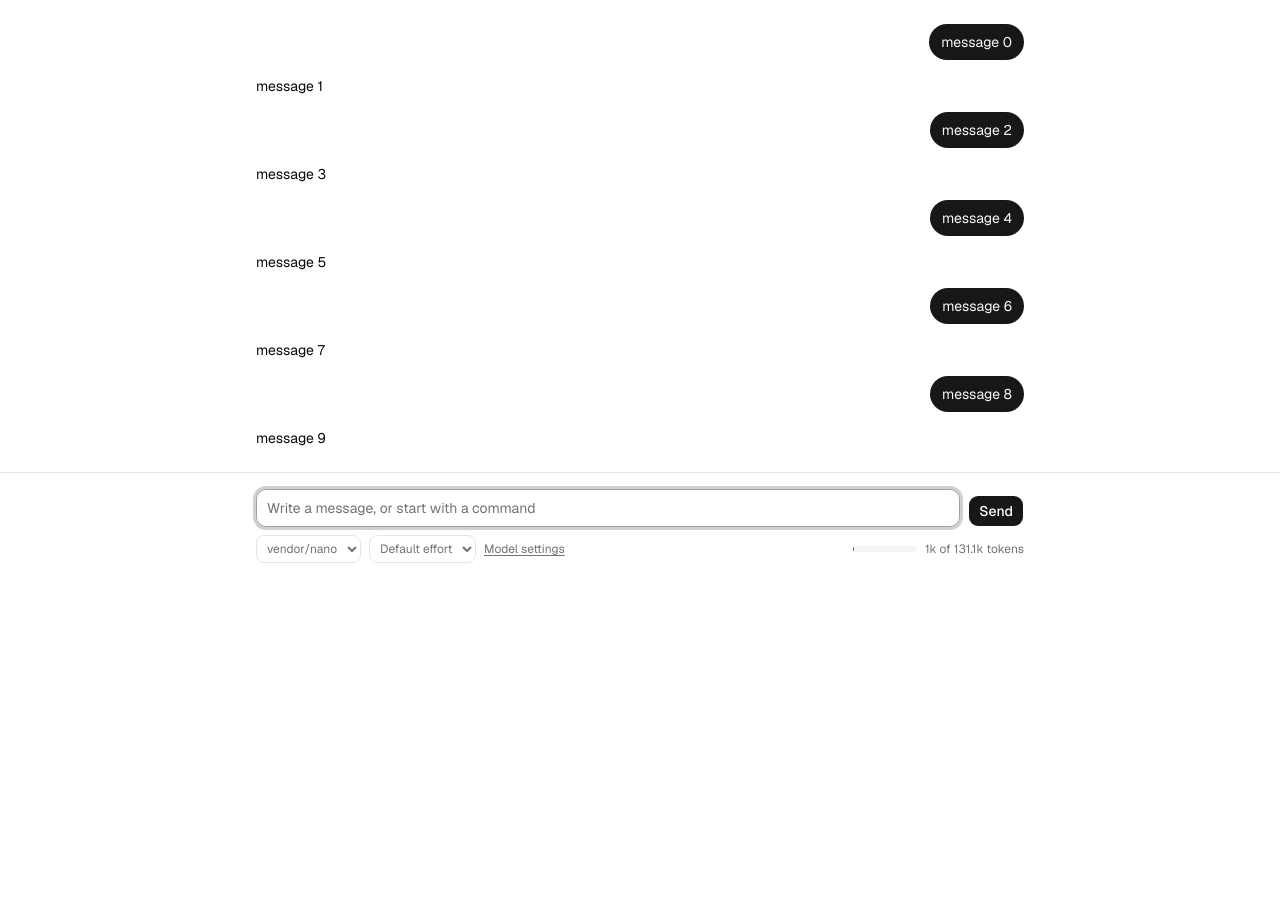
Scenario: the /compact dialog › accepts the edited draft through the compaction endpoint
expect the text "message 9" is shown: met, box [256,428,326,448]
In the text box labelled "message": (608, 508) [256,489,960,527], type "/compact"
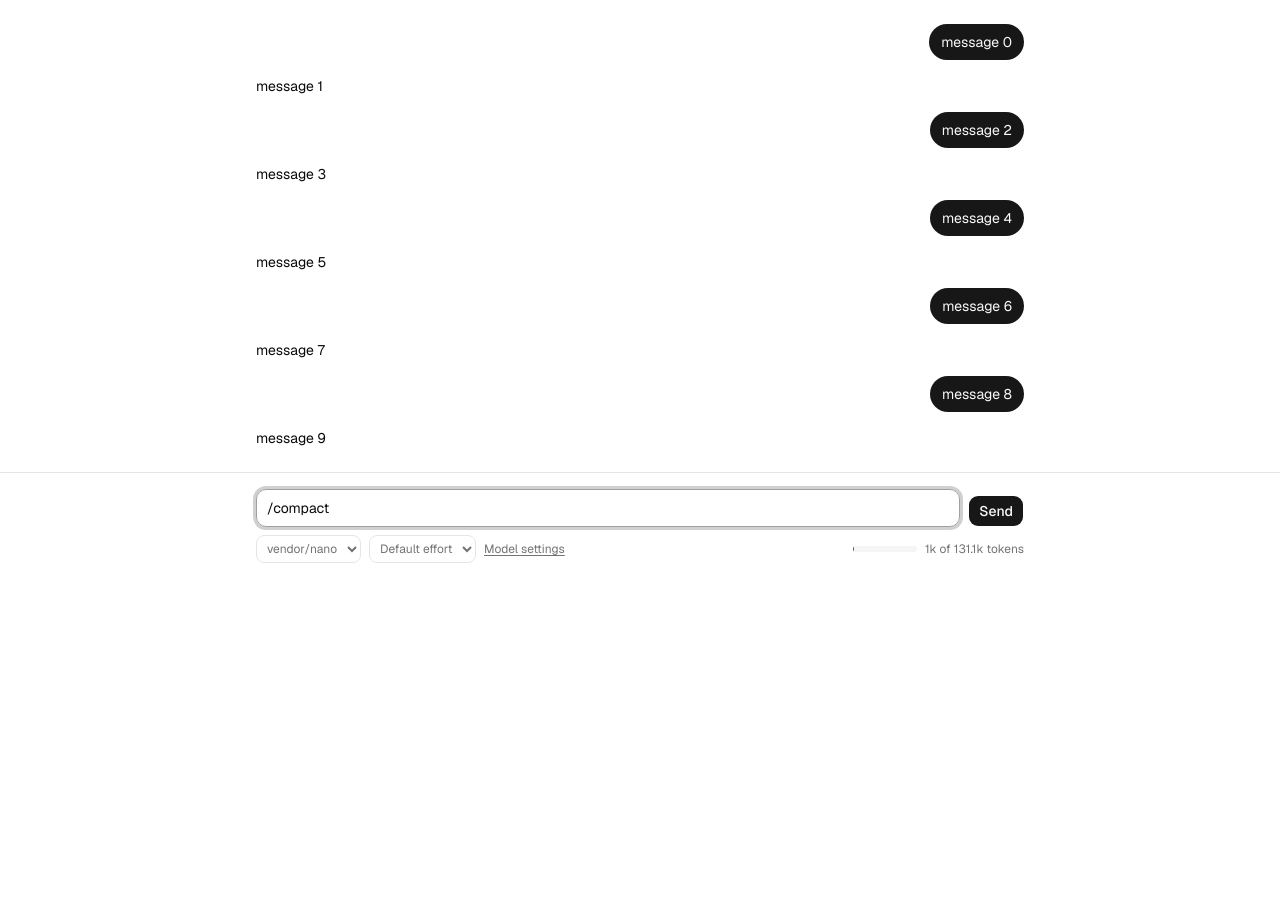
Click the button "Send": (996, 511) [968,495,1024,527]
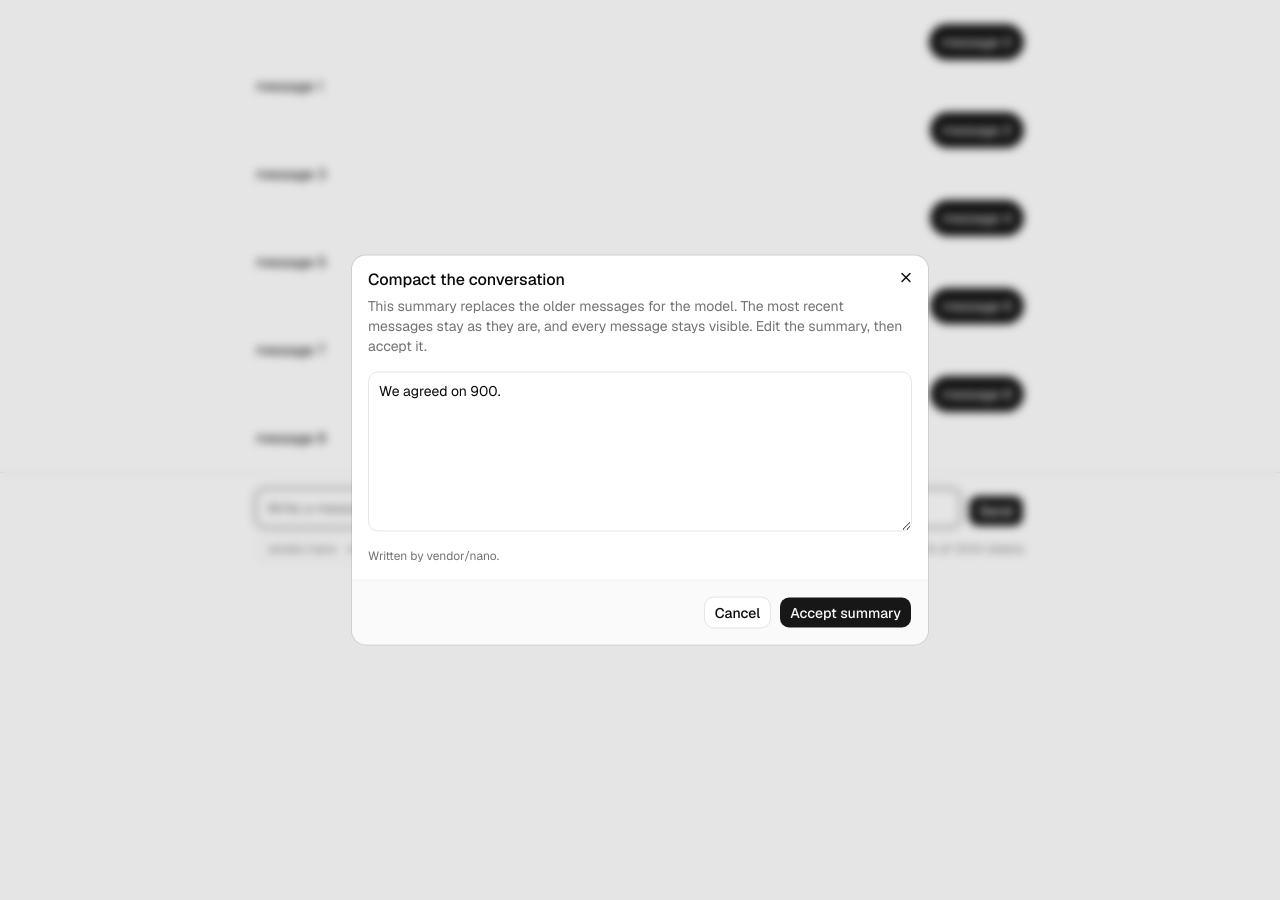
Replace the text in the text box named "Summary" with "Rent is 900 a month.": (640, 452) [368,372,912,532]
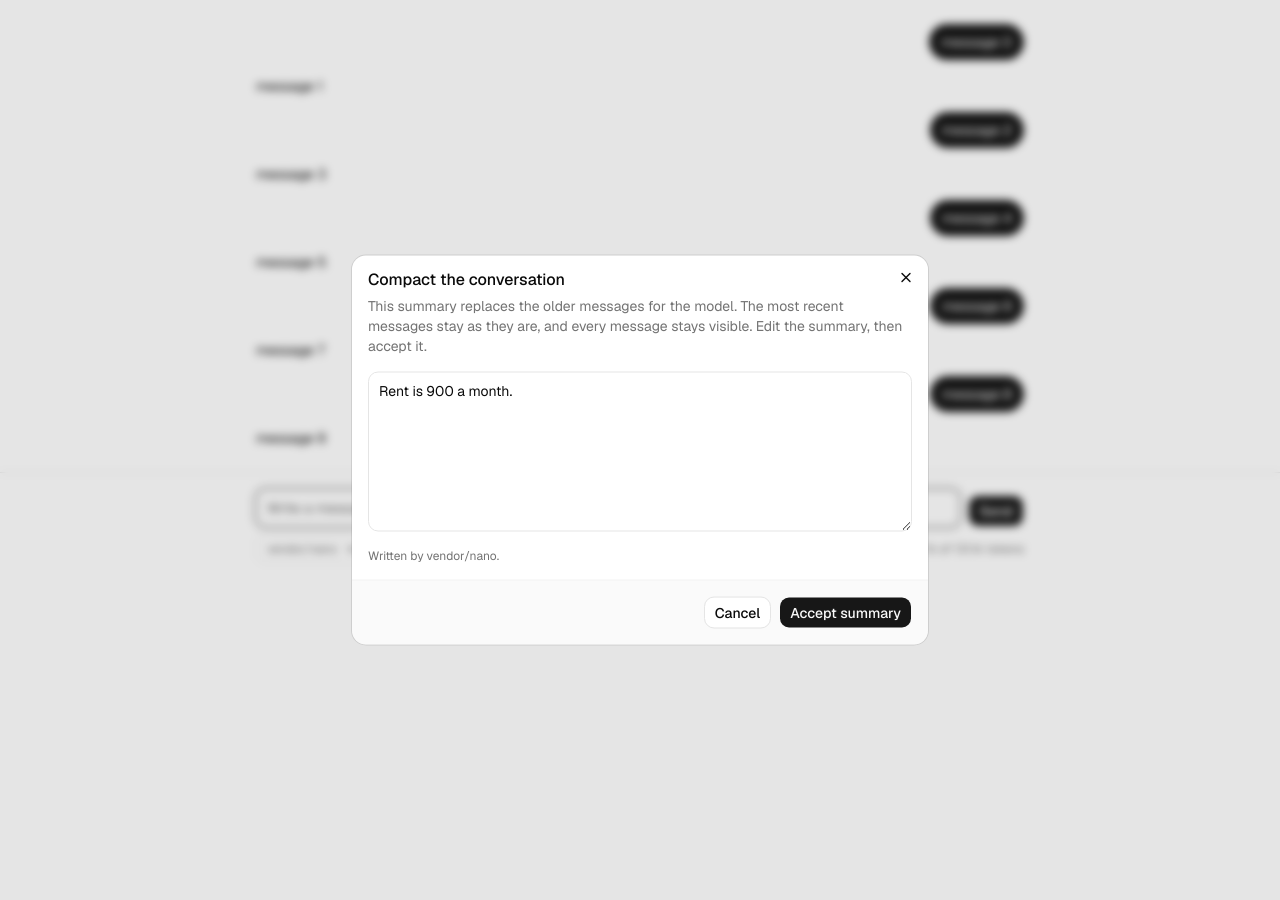
Click the button "Accept summary": (846, 612) [779,596,912,628]
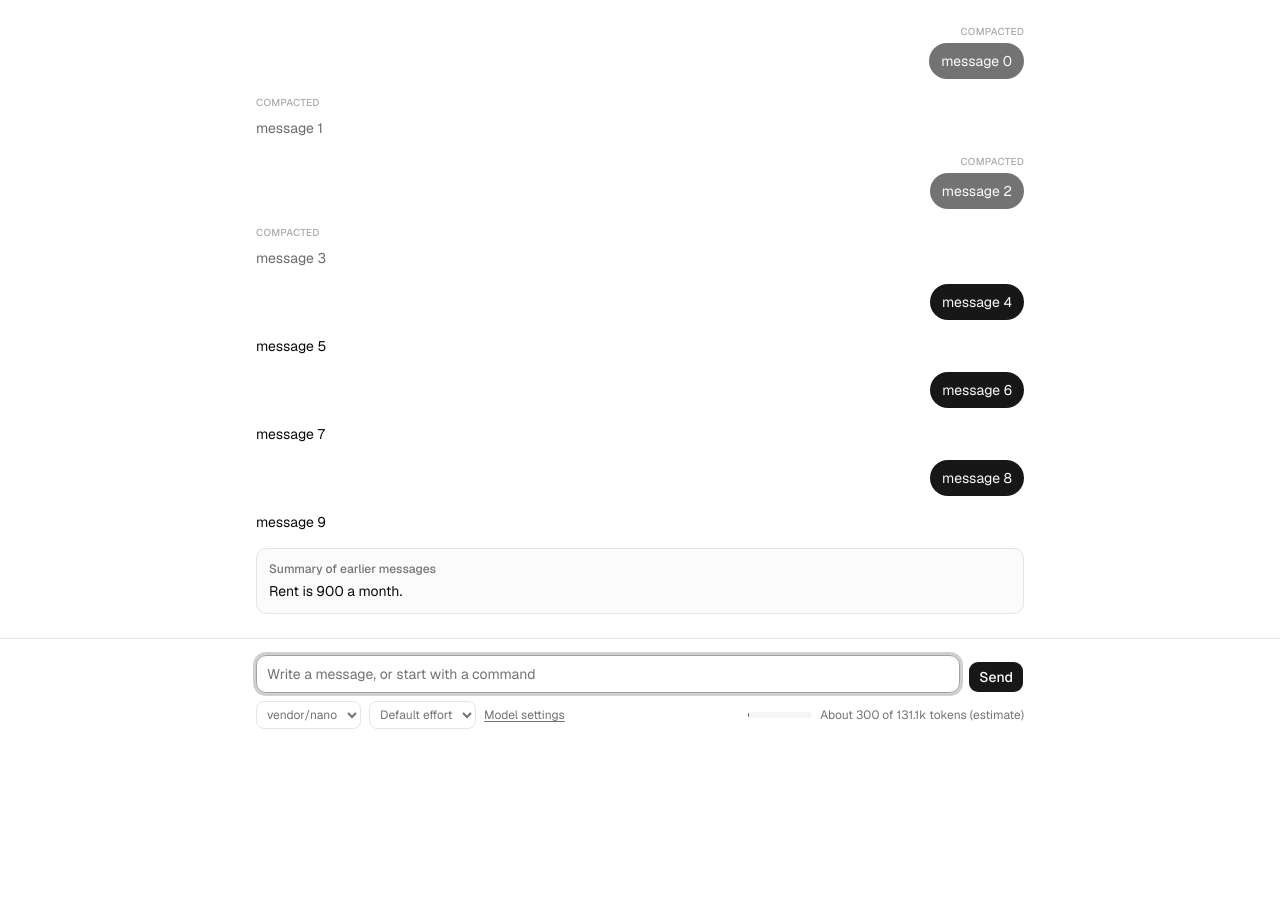
expect the dialog is gone: met
expect the text "Rent is 900 a month." is shown: met, box [269,582,402,600]
expect the text "Compacted" is shown 4 times: met, box [960,24,1024,39]; [256,95,320,110]; [960,154,1024,169]; [256,225,320,240]
